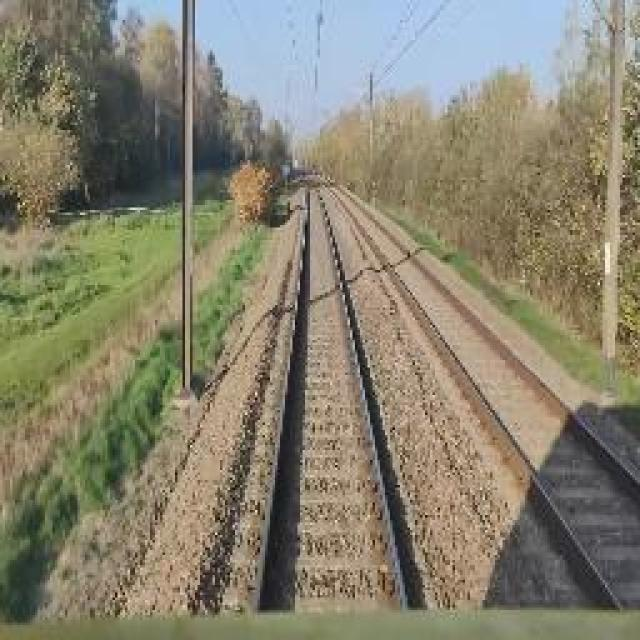rail: (317, 183, 640, 612), (215, 177, 445, 617)
